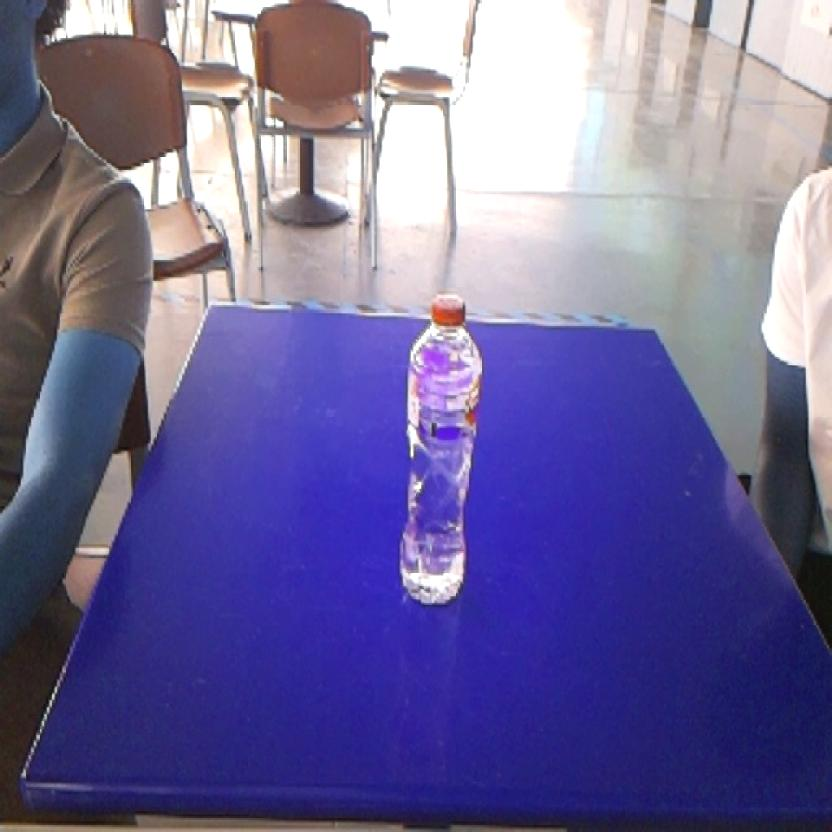good: (388, 273, 489, 622)
